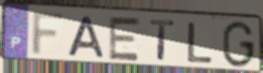A: (67, 15, 107, 59)
E: (107, 15, 143, 63)
F: (29, 11, 68, 58)
G: (221, 20, 257, 70)
L: (186, 21, 215, 65)
T: (149, 18, 177, 63)
